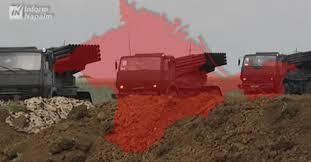MIL_SAM_TEL: (0, 43, 102, 102), (116, 50, 228, 97), (238, 45, 311, 95)
